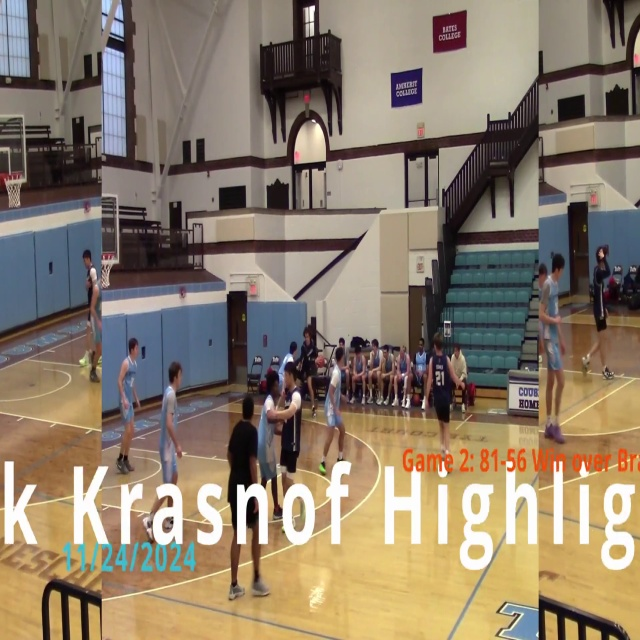Basketball: (444, 454, 453, 473), (79, 358, 87, 367)
